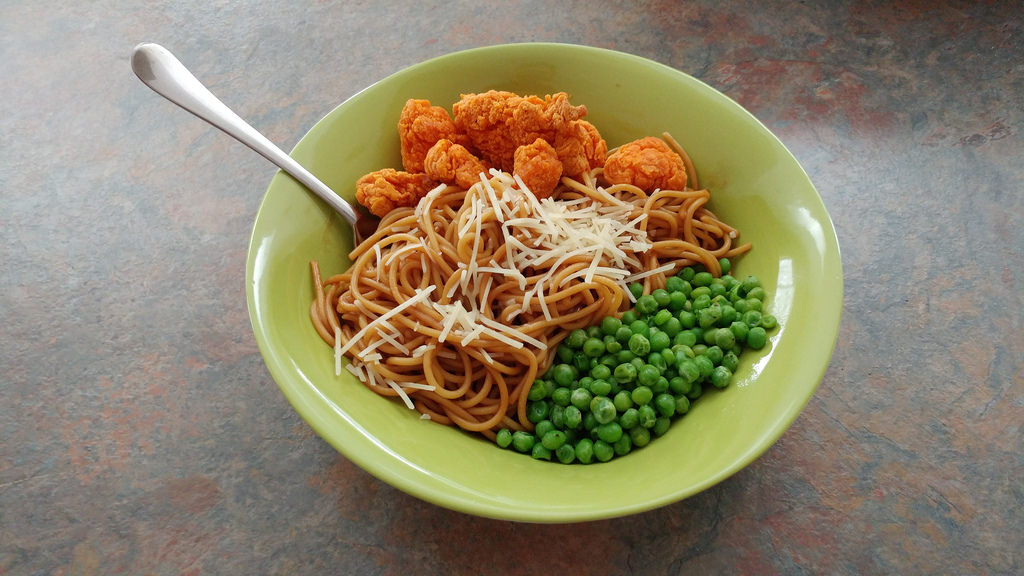boiled peas: (593, 352, 681, 416)
plain spaghetti: (391, 254, 540, 403)
